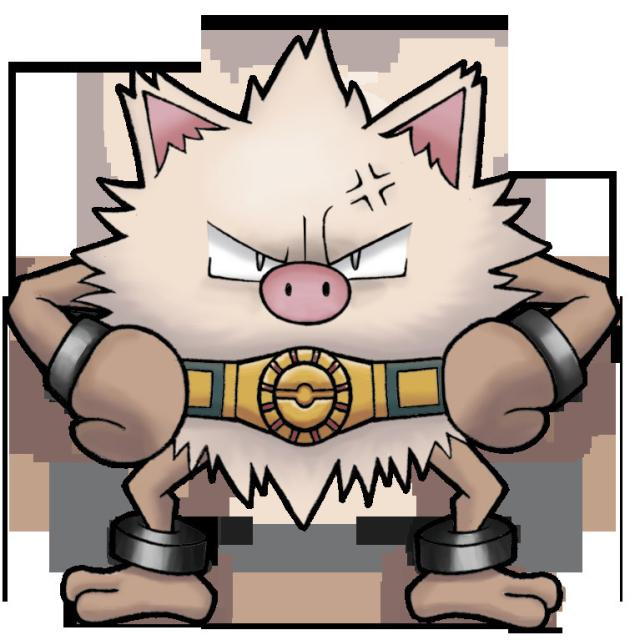Primeape: (49, 63, 576, 589)
